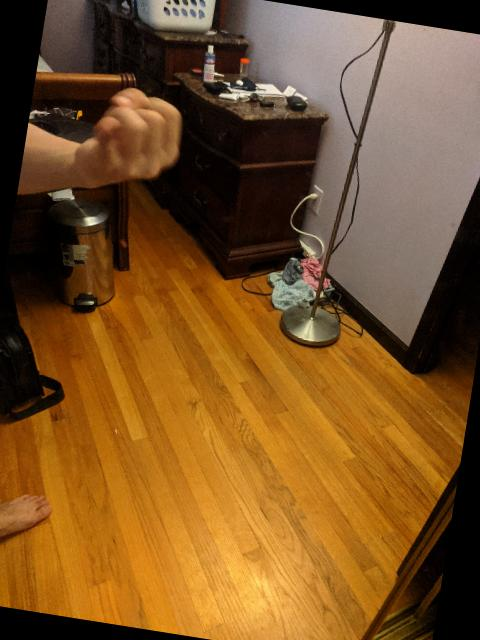J: (70, 75, 197, 201)
